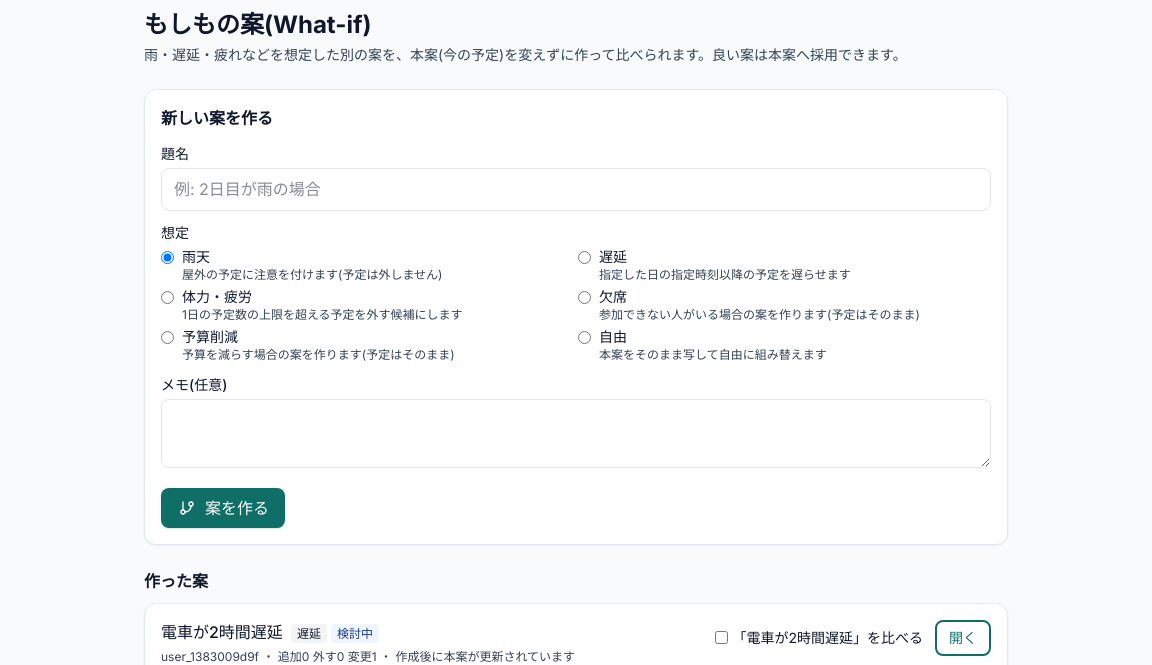
it: BranchesPage (Gate P7) › [Gate G7] FR-019 案を3つまで選んで本案と比べる
What coordinates should you click on to do the following:
click the checkbox labelled "「電車が2時間遅延」を比べる"
I would click on:
 (722, 638)
Its box is [716, 631, 728, 644].
(page scrolled)
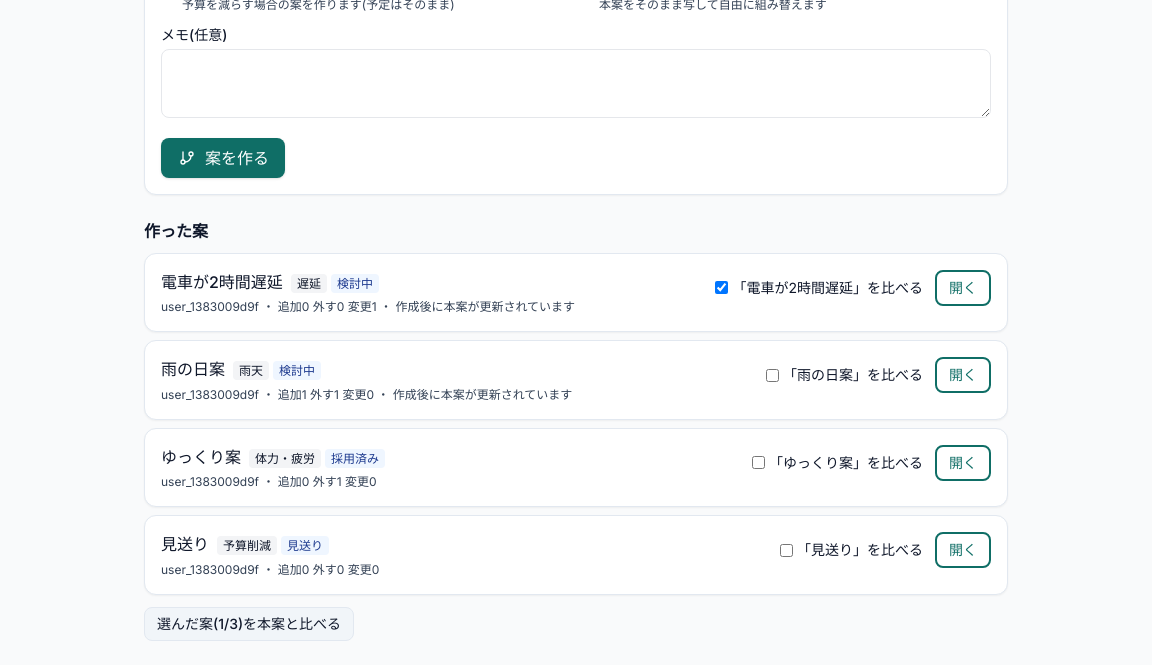
What coordinates should you click on to do the following:
click the button "選んだ案(1/3)を本案と比べる"
I would click on:
 (249, 624)
Its box is [144, 607, 354, 641].
(page scrolled)
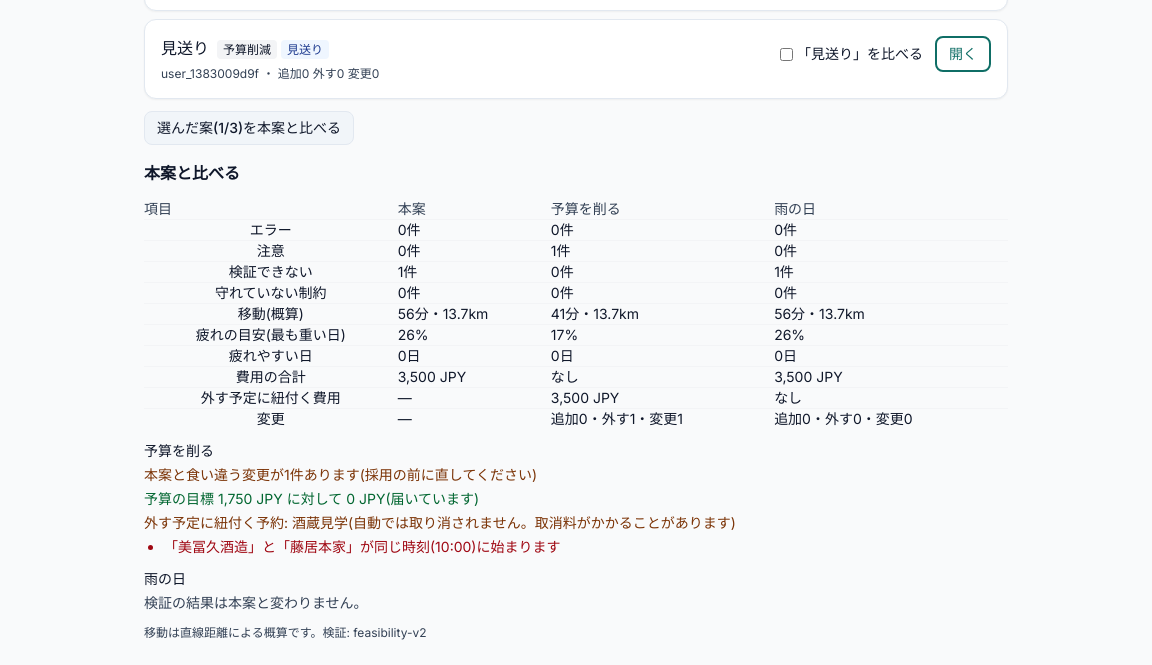
Check: the table named "本案と案の比較" is shown, box [144, 198, 1008, 428]
